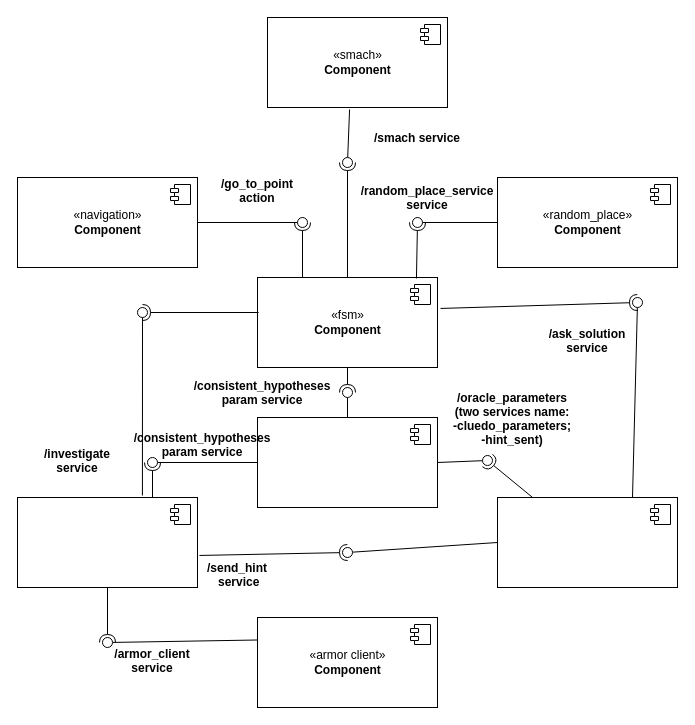
This 695x725 diagram has some shape labels left out. The shapes that lost their labels are listed below. From the top down, each one's box as (x1, y1, x2, y2) in pixels, then its label:
(256, 416, 438, 508): «ros_parameter_server» Component
(16, 496, 198, 588): «investigation» Component
(496, 496, 678, 588): «oracle» Component
